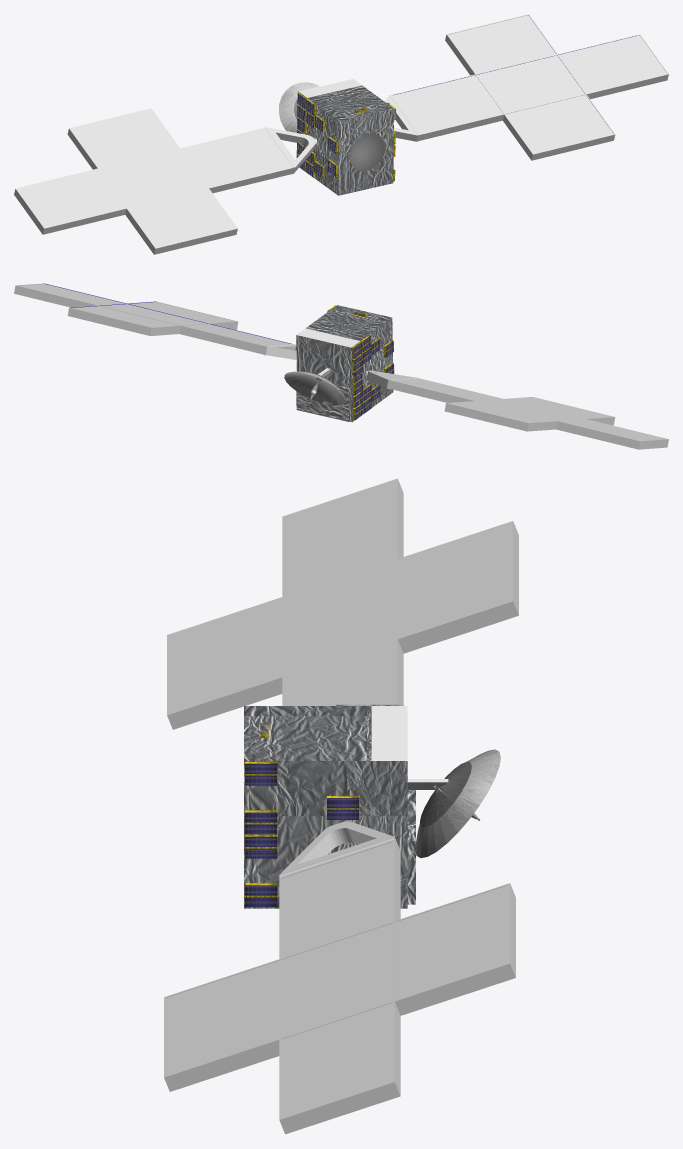
Rendered from Spacecraft.9c5830ab.glb.
3 renders of one model, top to bottom at view 1: azimuth 30°, elevation 25°; view 2: azimuth 150°, elevation 25°; view 3: azimuth 270°, elevation 25°, orthographic. The views are drawn at different scales.
Visible parts, largest first — view 1: Psyche, Psyche.001, PsycheChasismm; view 2: PsycheChasismm, Psyche, Psyche.001; view 3: Psyche.001, Psyche, PsycheChasismm.
Part boxes in pixels (left/top/right/bottom): Psyche: left=14, top=108, right=317, bottom=254; Psyche.001: left=384, top=14, right=668, bottom=160; PsycheChasismm: left=279, top=79, right=395, bottom=195; PsycheChasismm: left=284, top=305, right=394, bottom=422; Psyche: left=366, top=370, right=668, bottom=449; Psyche.001: left=14, top=283, right=296, bottom=359; Psyche.001: left=164, top=821, right=515, bottom=1134; Psyche: left=167, top=478, right=518, bottom=729; PsycheChasismm: left=244, top=704, right=500, bottom=908.
Size of the model in its own units: 447 by 54.56 by 110.
Materials: 10 (5 with a texture image).
